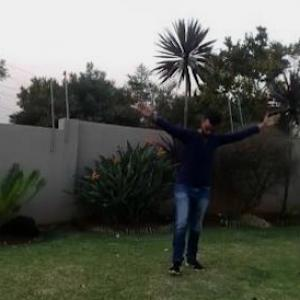takeoff: (134, 91, 268, 286)
